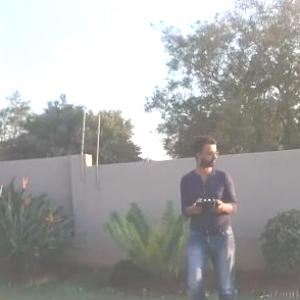follow: (171, 128, 240, 299)
